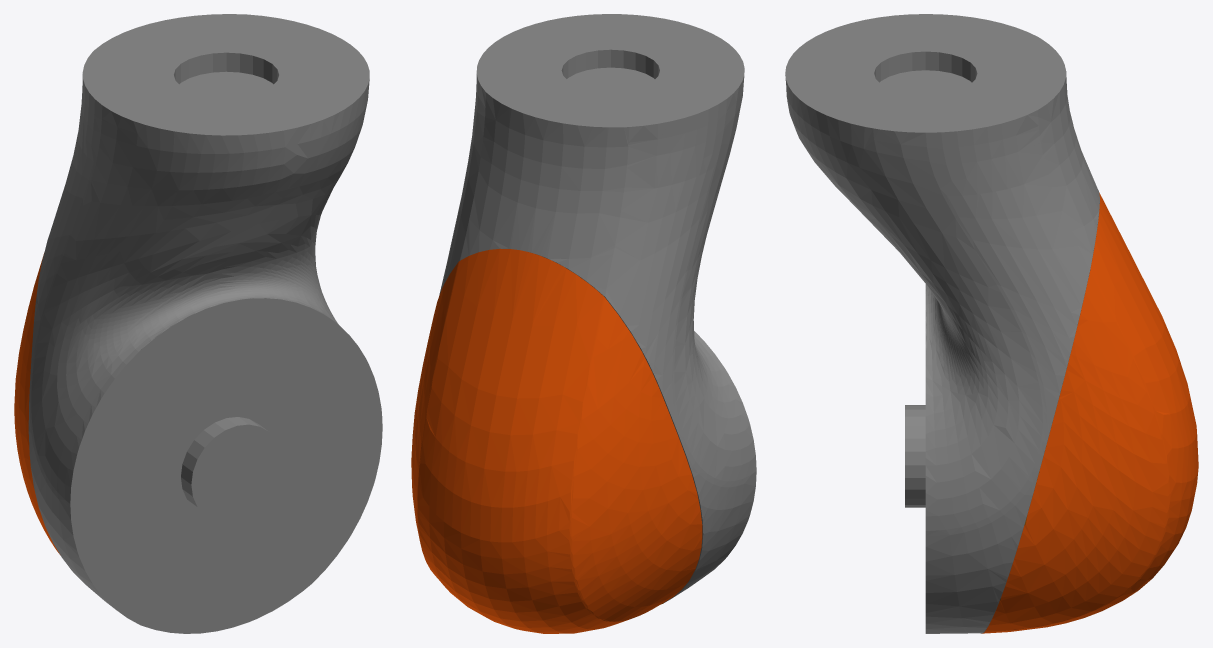
3 renders of one model, left to right at view 1: azimuth 30°, elevation 25°; view 2: azimuth 150°, elevation 25°; view 3: azimuth 270°, elevation 25°, orthographic. The views are drawn at different scales.
Parts seen in each view (by area): view 1: ShapeIndexedFaceSet; view 2: ShapeIndexedFaceSet; view 3: ShapeIndexedFaceSet.
Boxes of the visible parts, x1=… form: ShapeIndexedFaceSet: x1=14, y1=14, x2=382, y2=633; ShapeIndexedFaceSet: x1=411, y1=14, x2=756, y2=633; ShapeIndexedFaceSet: x1=785, y1=14, x2=1198, y2=633.
Size of the model in its own units: 0.171 by 0.2899 by 0.2001.
